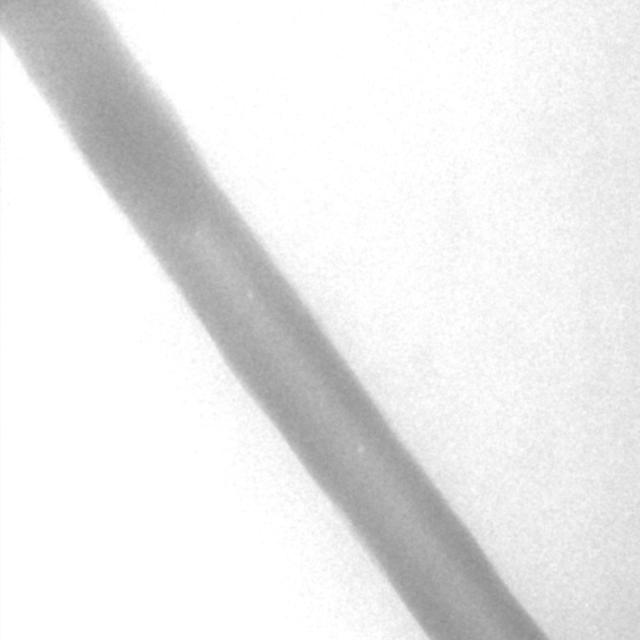air-hole: (244, 288, 253, 297), (357, 441, 362, 450)
